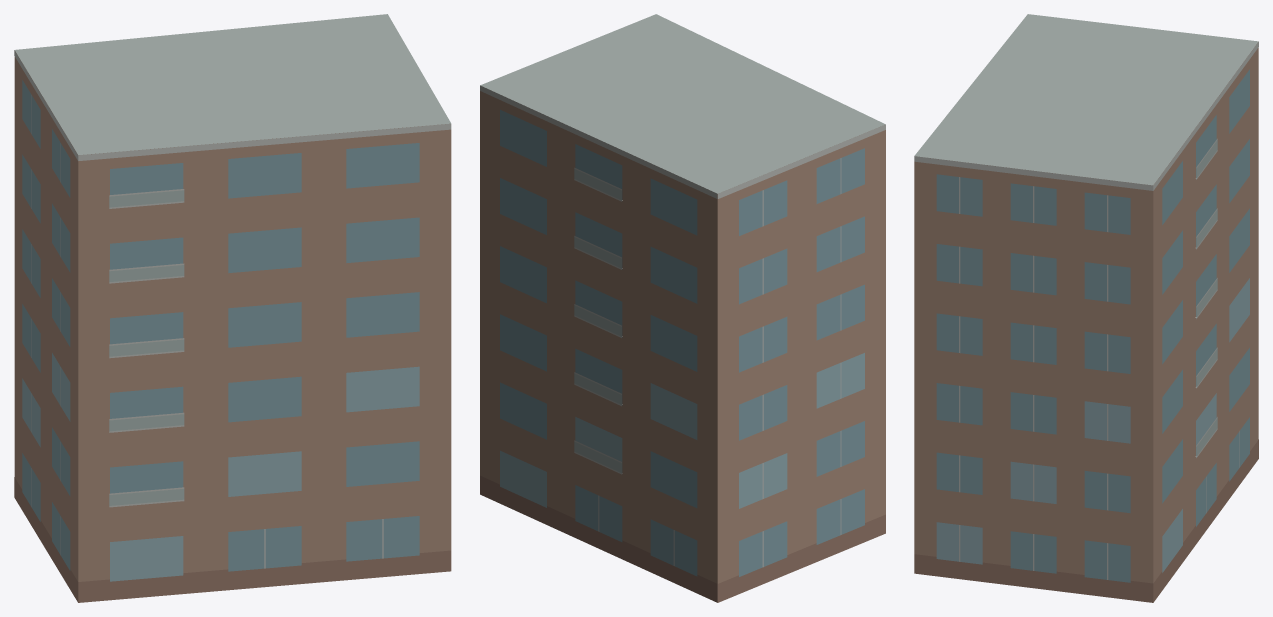
The model's file is survey-upis-32955563.glb.
3 views of the same model, side by side, from view 1: azimuth 30°, elevation 25°; view 2: azimuth 150°, elevation 25°; view 3: azimuth 270°, elevation 25° (orthographic). The views are drawn at different scales.
Parts seen in each view (by area): view 1: survey-upis-32955563.tmp; view 2: survey-upis-32955563.tmp; view 3: survey-upis-32955563.tmp.
Part boxes in pixels (x1=…): survey-upis-32955563.tmp: x1=14, y1=14, x2=451, y2=602; survey-upis-32955563.tmp: x1=480, y1=14, x2=885, y2=602; survey-upis-32955563.tmp: x1=914, y1=14, x2=1258, y2=602.
Bounding box in the file's own units: 16.13 × 18.3 × 13.7.
